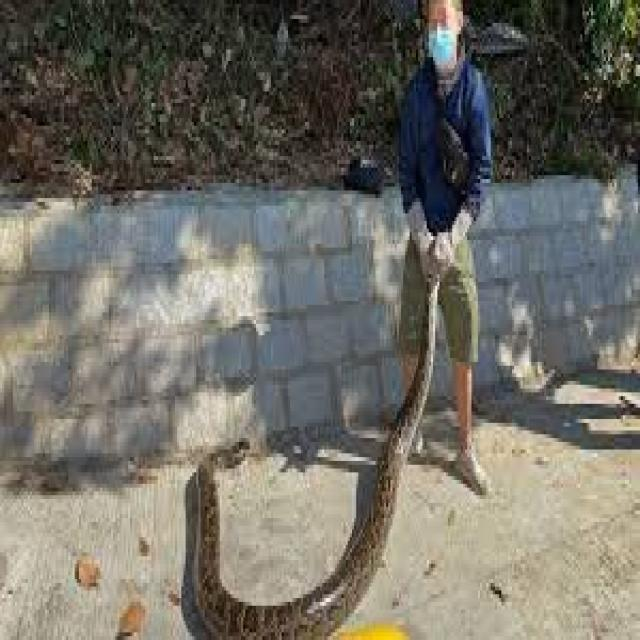Snake: (191, 222, 464, 640)
